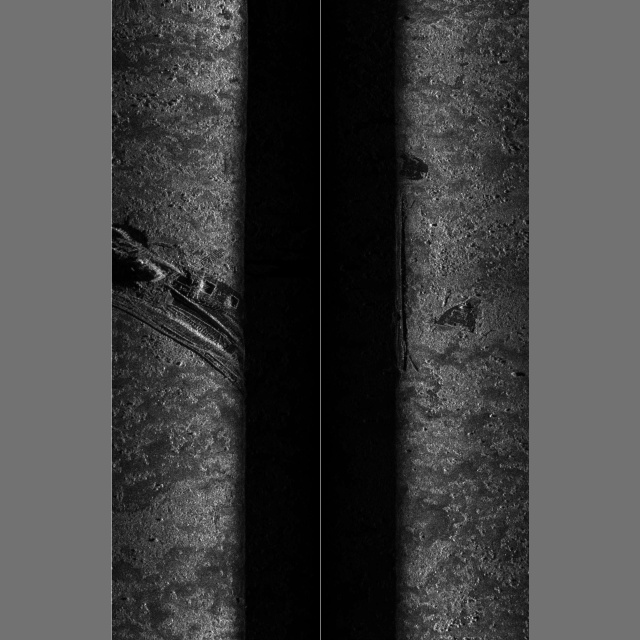Shipwreck: (112, 155, 490, 395)
